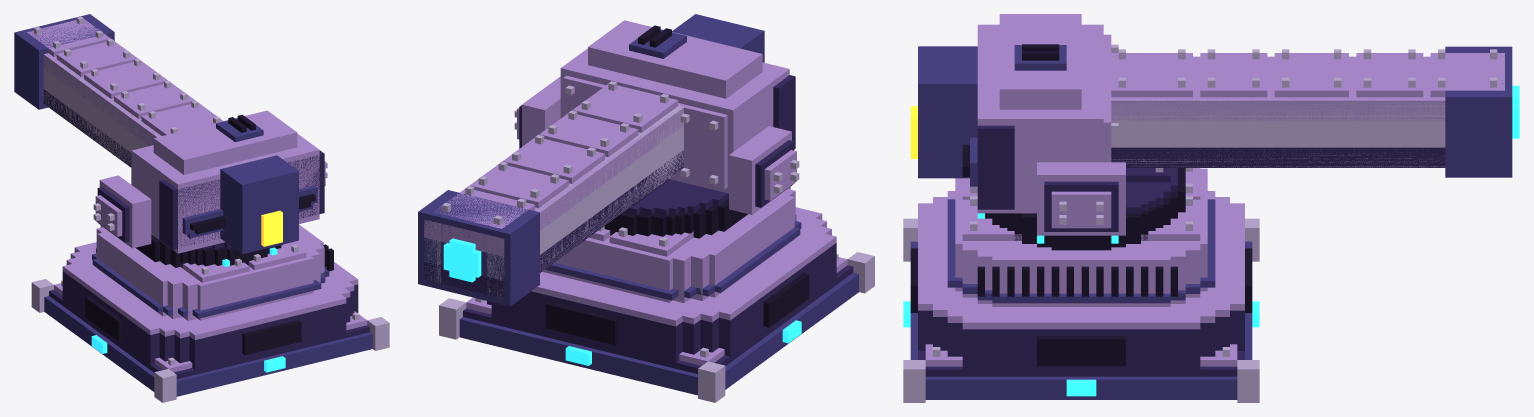
Rendered from railgun.lg.glb.
3 renders of one model, left to right at view 1: azimuth 30°, elevation 25°; view 2: azimuth 150°, elevation 25°; view 3: azimuth 270°, elevation 25°, orthographic. The views are drawn at different scales.
Parts seen in each view (by area): view 1: railgun.lg; view 2: railgun.lg; view 3: railgun.lg.
Part boxes in pixels (bbox=[...]): railgun.lg: bbox=[14, 14, 389, 402]; railgun.lg: bbox=[418, 14, 874, 402]; railgun.lg: bbox=[903, 14, 1519, 402].
Size of the model in its own units: 3 by 2.69 by 5.19.
